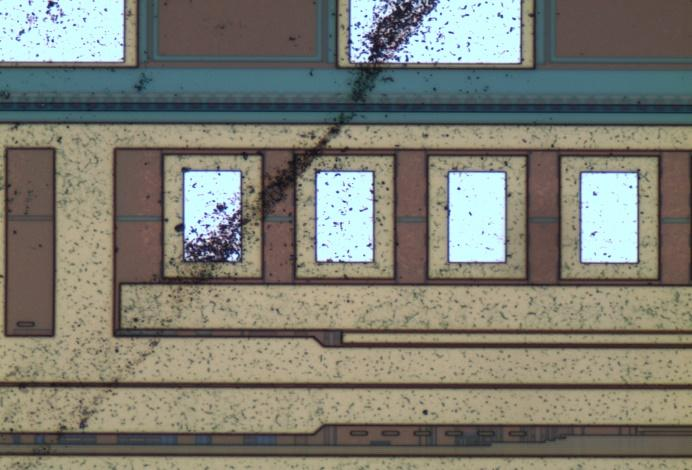PO CONTAMINATION: (1, 1, 633, 470)
